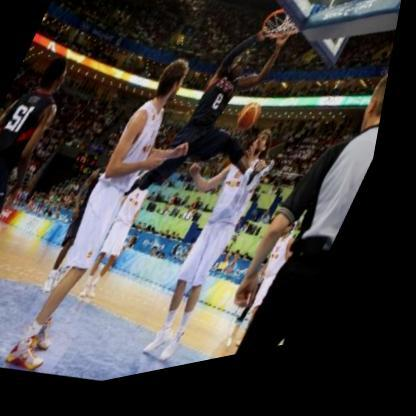basketball: (237, 109, 271, 147)
